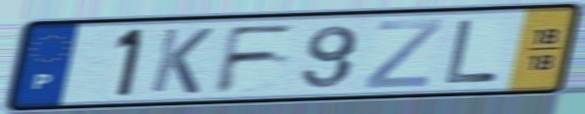1: (111, 27, 146, 99)
9: (298, 23, 362, 90)
F: (211, 21, 300, 96)
K: (145, 26, 217, 96)
L: (441, 17, 502, 86)
Z: (360, 17, 446, 91)
